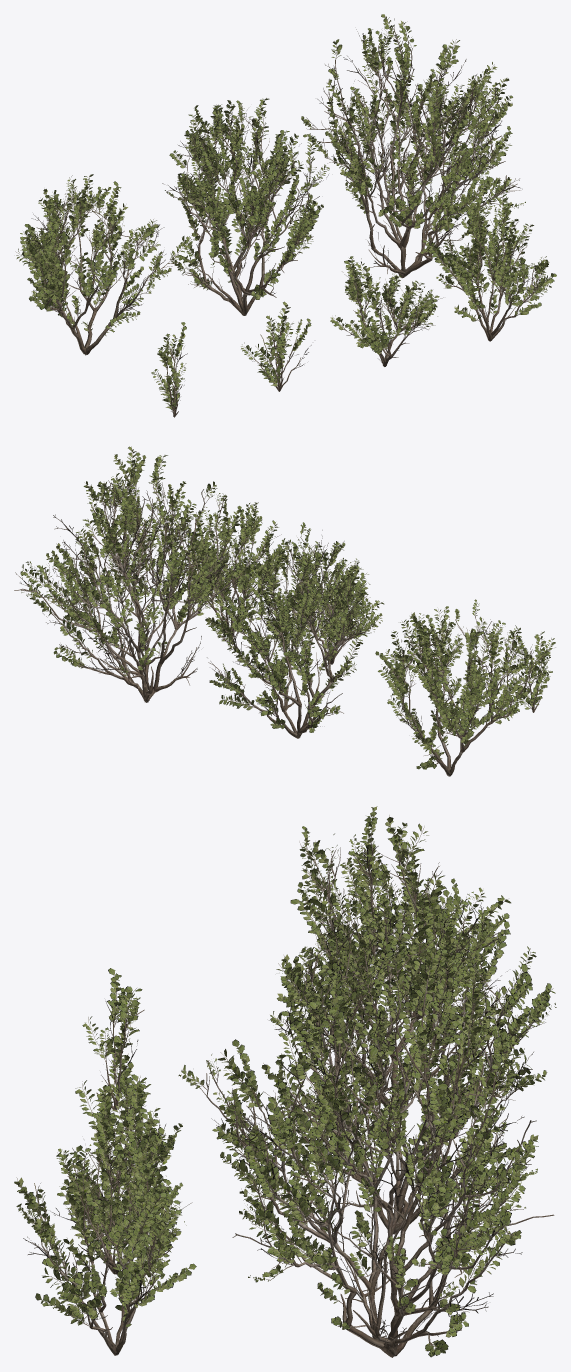
File: searsia-lucida.glb
3 renders of one model, top to bottom at view 1: azimuth 30°, elevation 25°; view 2: azimuth 150°, elevation 25°; view 3: azimuth 270°, elevation 25°, orthographic. The views are drawn at different scales.
Parts seen in each view (by area): view 1: searsia_lucida; view 2: searsia_lucida; view 3: searsia_lucida.
Part boxes in pixels (bbox=[...]): searsia_lucida: bbox=[15, 14, 556, 417]; searsia_lucida: bbox=[14, 446, 555, 776]; searsia_lucida: bbox=[14, 806, 556, 1357].
Bounding box in the file's own units: 4.78 × 2.34 × 2.84.
2 materials, 2 textured.
